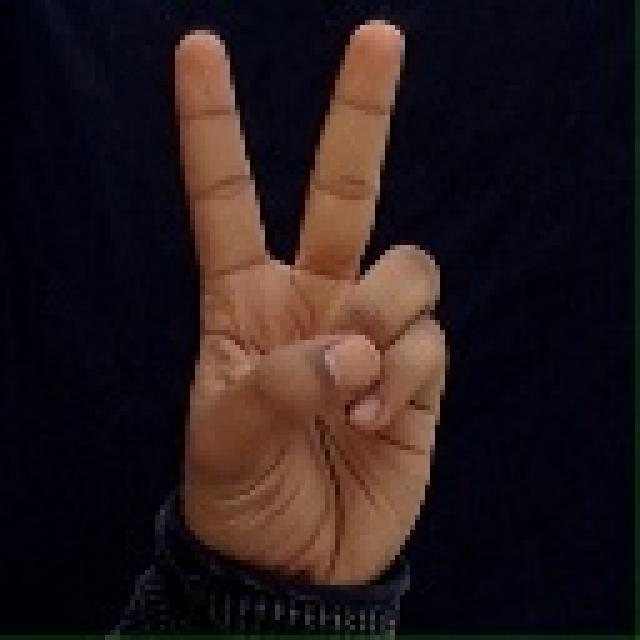No: (152, 8, 478, 625)
